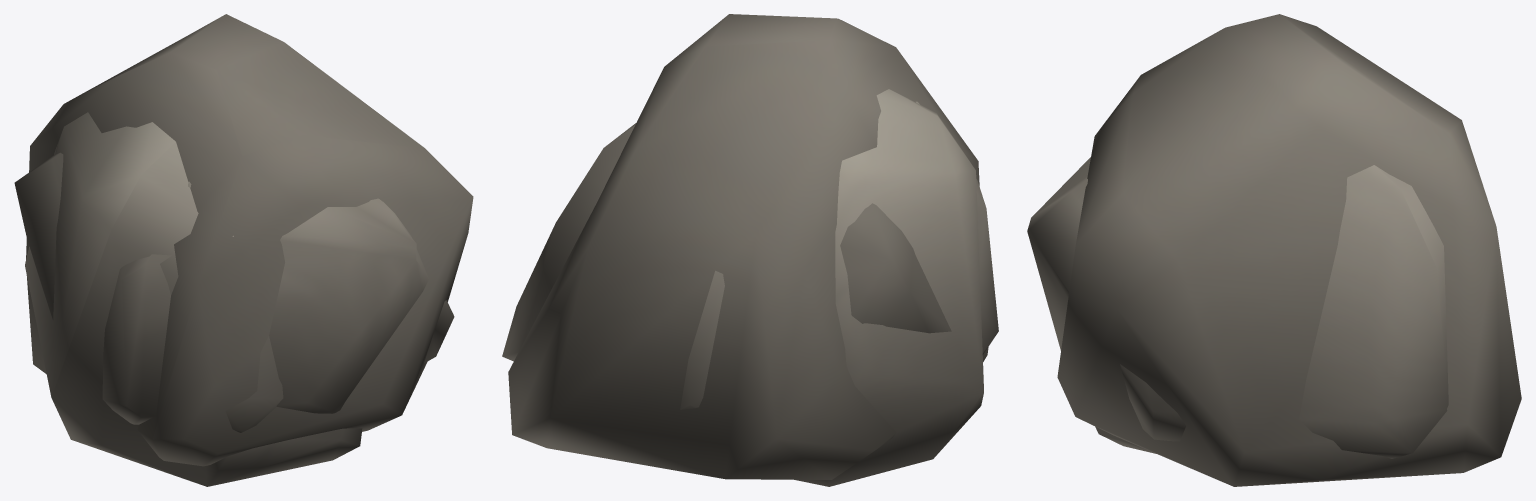
The model's file is rockShatterFX_meshes.fbx.
The picture shows the model from 3 angles, left to right: view 1: azimuth 30°, elevation 25°; view 2: azimuth 150°, elevation 25°; view 3: azimuth 270°, elevation 25°; orthographic projection. The views are drawn at different scales.
Visible parts, largest first — view 1: rockFX_3, rockFX_1, rockFX_2, rockFX_4; view 2: rockFX_3, rockFX_1, rockFX_2, rockFX_4; view 3: rockFX_3, rockFX_2.
Part boxes in pixels (bbox=[...]): rockFX_3: bbox=[26, 14, 473, 466]; rockFX_1: bbox=[25, 112, 362, 486]; rockFX_2: bbox=[102, 181, 454, 424]; rockFX_4: bbox=[14, 152, 283, 432]; rockFX_3: bbox=[508, 14, 988, 479]; rockFX_1: bbox=[794, 89, 983, 486]; rockFX_2: bbox=[502, 101, 998, 409]; rockFX_4: bbox=[840, 203, 951, 333]; rockFX_3: bbox=[1057, 14, 1521, 486]; rockFX_2: bbox=[1027, 157, 1448, 458].
Size of the model in its own units: 46.29 by 42.25 by 48.77.
